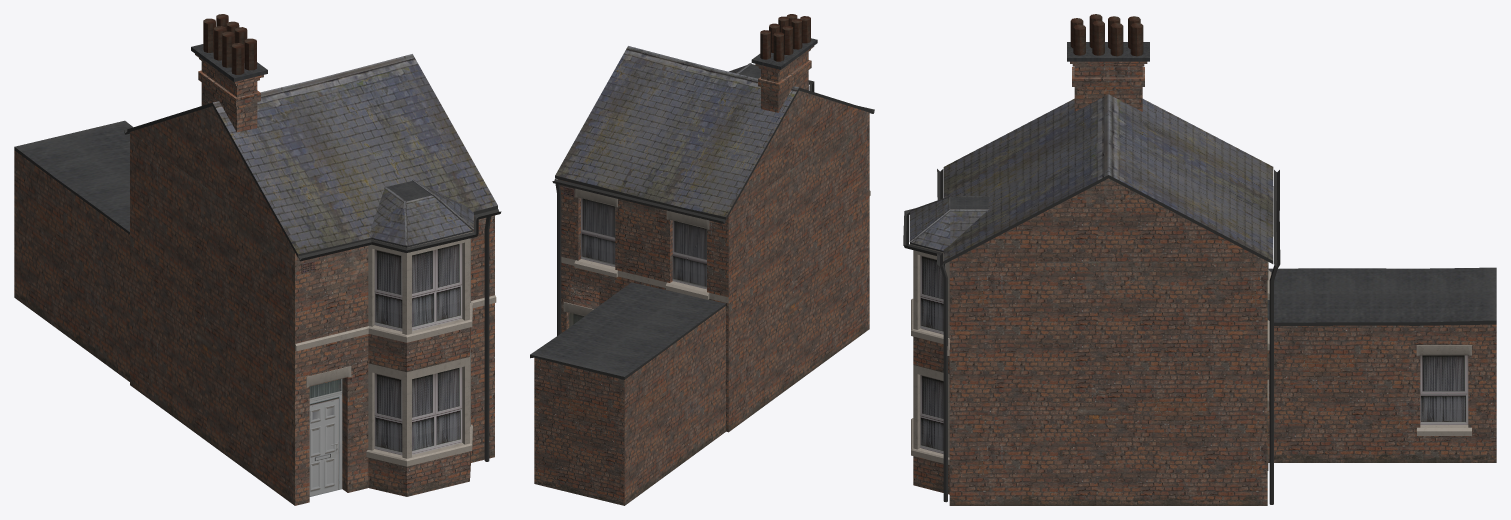
The model's file is ukterracedvictorian11m.FBX.
The picture shows the model from 3 angles, left to right: view 1: azimuth 30°, elevation 25°; view 2: azimuth 150°, elevation 25°; view 3: azimuth 270°, elevation 25°; orthographic projection. The views are drawn at different scales.
Parts seen in each view (by area): view 1: Object003; view 2: Object003; view 3: Object003.
Part boxes in pixels (x1,y1,x2,y2): Object003: (14, 14, 501, 505); Object003: (530, 14, 874, 505); Object003: (903, 14, 1496, 505).
Size of the model in its own units: 561 by 1108 by 1493.
